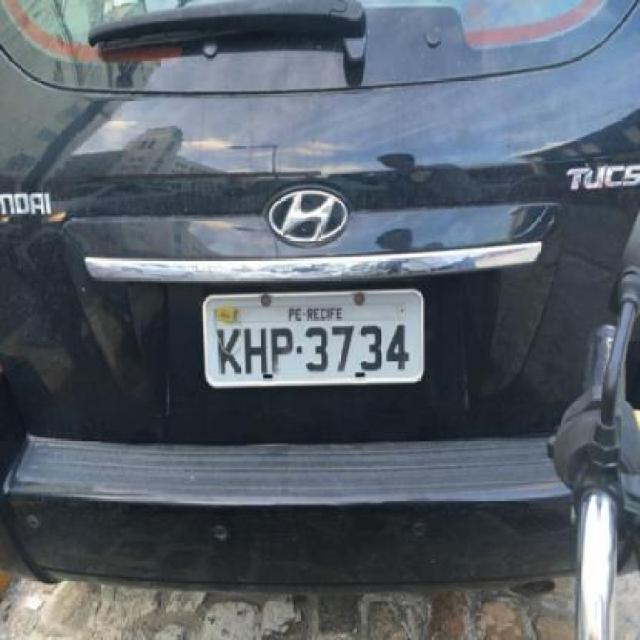old_plate: (198, 282, 430, 394)
